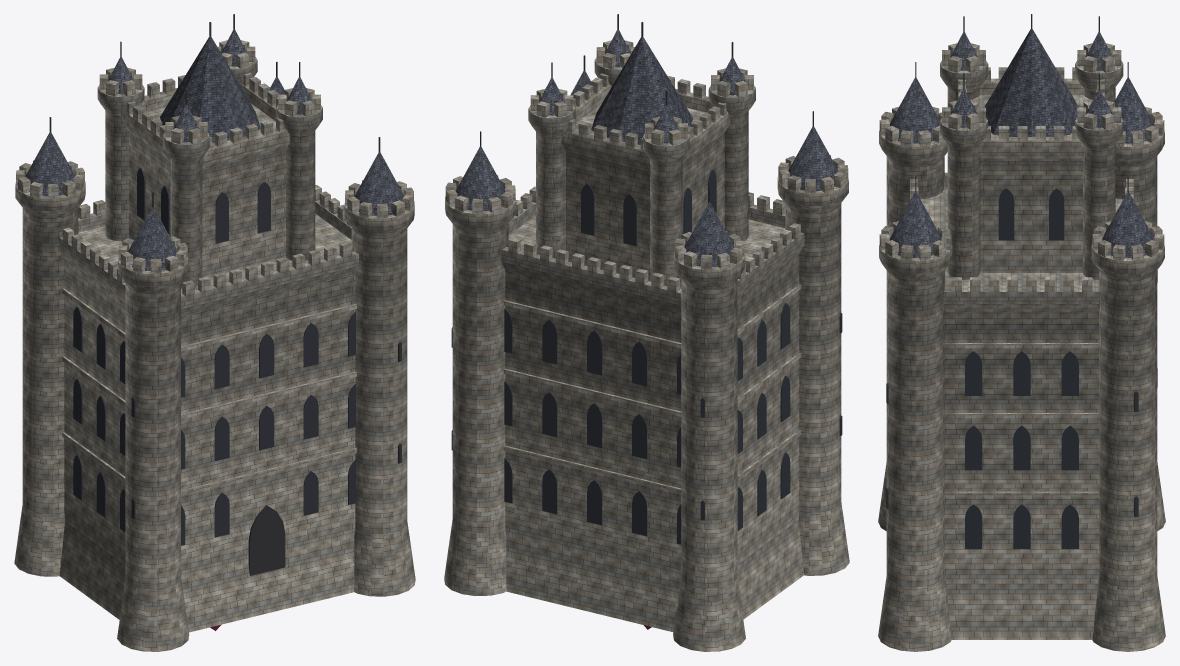
Rendered from castle-kit.glb.
3 renders of one model, left to right at view 1: azimuth 30°, elevation 25°; view 2: azimuth 150°, elevation 25°; view 3: azimuth 270°, elevation 25°, orthographic. The views are drawn at different scales.
Visible parts, largest first — view 1: keep; view 2: keep; view 3: keep.
Part boxes in pixels (box(x1,y1,x2,y2)): keep: box(14, 14, 415, 651); keep: box(444, 14, 849, 651); keep: box(878, 14, 1165, 651).
Size of the model in its own units: 35.8 by 71.5 by 29.8.
6 materials, 2 textured.
